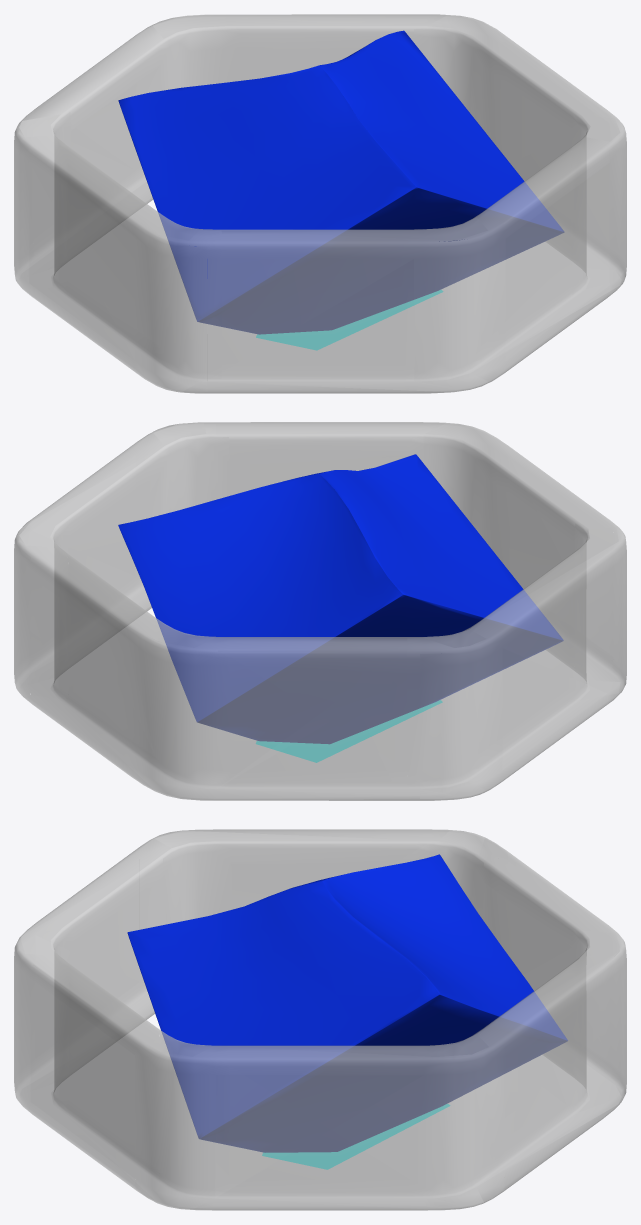
Rendered from hotspot.glb.
The picture shows the model from 3 angles, top to bottom: view 1: azimuth 30°, elevation 25°; view 2: azimuth 150°, elevation 25°; view 3: azimuth 270°, elevation 25°; orthographic projection.
Parts seen in each view (by area): view 1: pCube3; view 2: pCube3; view 3: pCube3.
Part boxes in pixels (box(x1,y1,x2,y2)): pCube3: box(14, 14, 626, 393); pCube3: box(14, 422, 626, 800); pCube3: box(14, 829, 626, 1210).
Size of the model in its own units: 0.0747 by 0.0433 by 0.0833.
